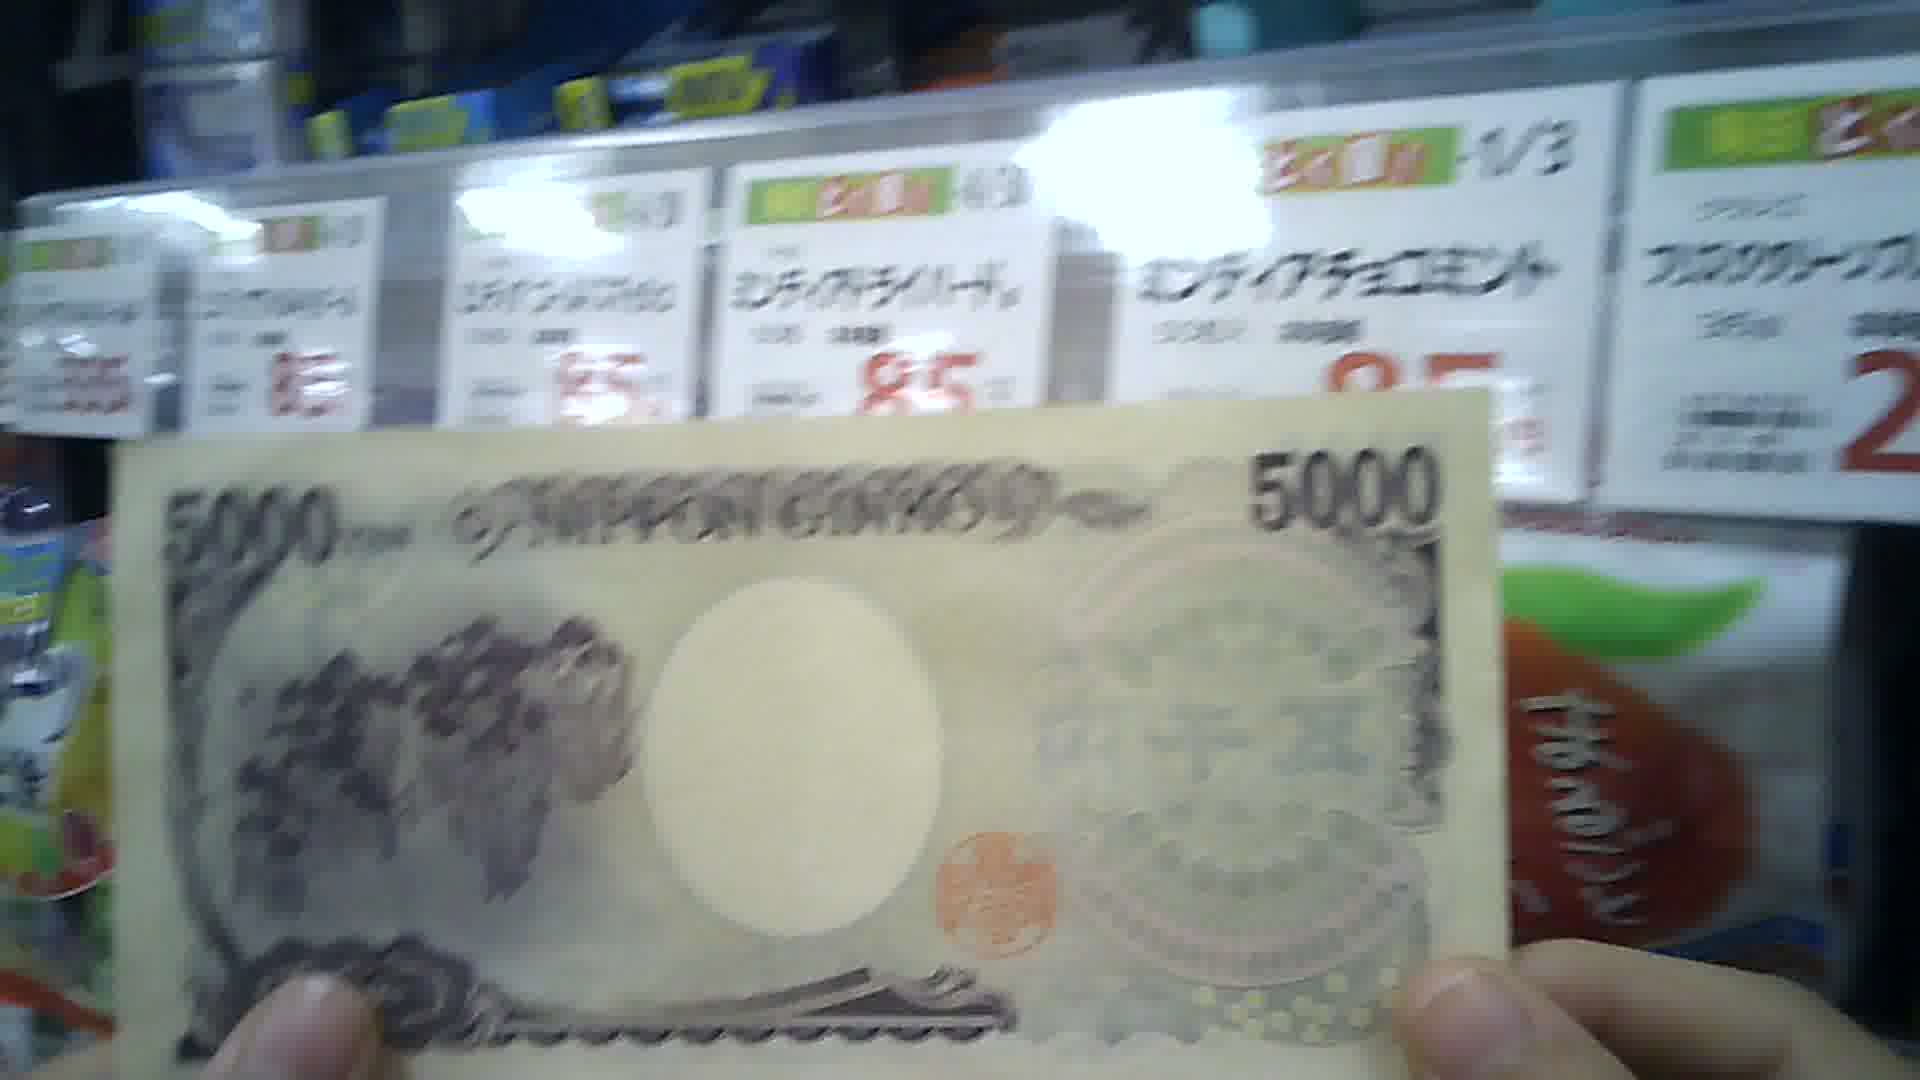5,000 Yen: (117, 405, 1523, 1079)
